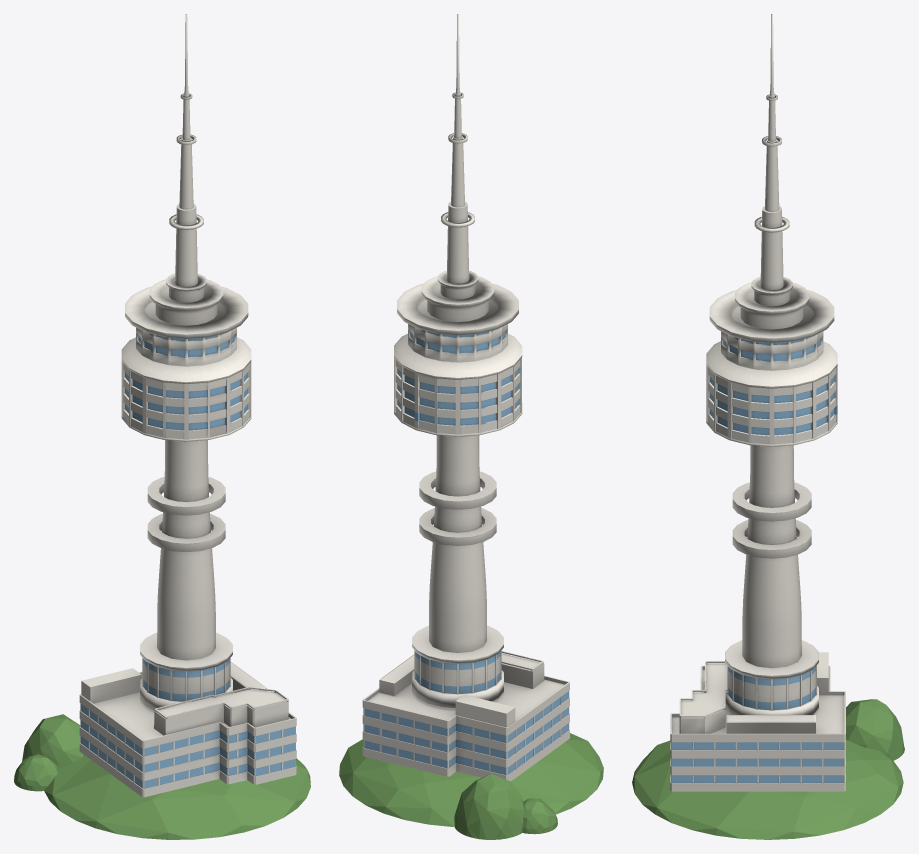
The model's file is ntower.glb.
The picture shows the model from 3 angles, left to right: view 1: azimuth 30°, elevation 25°; view 2: azimuth 150°, elevation 25°; view 3: azimuth 270°, elevation 25°; orthographic projection. The views are drawn at different scales.
Parts seen in each view (by area): view 1: Group003, Sphere005, Cylinder015, Box004, Group002, Cylinder017, Cylinder018, Sphere006, Cylinder022, Box006, Sphere007; view 2: Group003, Sphere005, Box004, Cylinder015, Group002, Cylinder017, Sphere006, Cylinder022, Cylinder018, Box006, Sphere007, Box005; view 3: Group003, Sphere005, Cylinder015, Box004, Group002, Cylinder017, Cylinder018, Sphere006, Cylinder022, Box005.
Boxes of the visible parts, x1=… form: Group003: x1=125, y1=14, x2=248, y2=701; Sphere005: x1=44, y1=755, x2=310, y2=839; Cylinder015: x1=157, y1=440, x2=215, y2=660; Box004: x1=79, y1=671, x2=296, y2=797; Group002: x1=80, y1=687, x2=295, y2=788; Cylinder017: x1=121, y1=361, x2=251, y2=439; Cylinder018: x1=121, y1=337, x2=251, y2=383; Sphere006: x1=22, y1=714, x2=84, y2=768; Cylinder022: x1=140, y1=632, x2=232, y2=710; Box006: x1=81, y1=668, x2=141, y2=703; Sphere007: x1=14, y1=754, x2=58, y2=791; Group003: x1=397, y1=14, x2=518, y2=694; Sphere005: x1=339, y1=733, x2=603, y2=827; Box004: x1=362, y1=675, x2=569, y2=781; Cylinder015: x1=429, y1=435, x2=486, y2=652; Group002: x1=363, y1=651, x2=569, y2=775; Cylinder017: x1=394, y1=357, x2=521, y2=434; Sphere006: x1=454, y1=773, x2=523, y2=839; Cylinder022: x1=412, y1=625, x2=503, y2=707; Cylinder018: x1=394, y1=333, x2=522, y2=379; Box006: x1=455, y1=695, x2=515, y2=727; Sphere007: x1=522, y1=798, x2=557, y2=834; Box005: x1=379, y1=654, x2=414, y2=695; Group003: x1=709, y1=14, x2=834, y2=710; Sphere005: x1=632, y1=739, x2=903, y2=839; Cylinder015: x1=742, y1=445, x2=801, y2=668; Box004: x1=670, y1=665, x2=845, y2=791; Group002: x1=670, y1=661, x2=845, y2=783; Cylinder017: x1=706, y1=365, x2=837, y2=444; Cylinder018: x1=706, y1=341, x2=837, y2=388; Sphere006: x1=846, y1=699, x2=904, y2=760; Cylinder022: x1=725, y1=640, x2=818, y2=714; Box005: x1=726, y1=715, x2=815, y2=733.
Size of what is drawn, in the model's own units: 2.24 by 6.87 by 2.19.
Materials: 2 (1 with a texture image).
